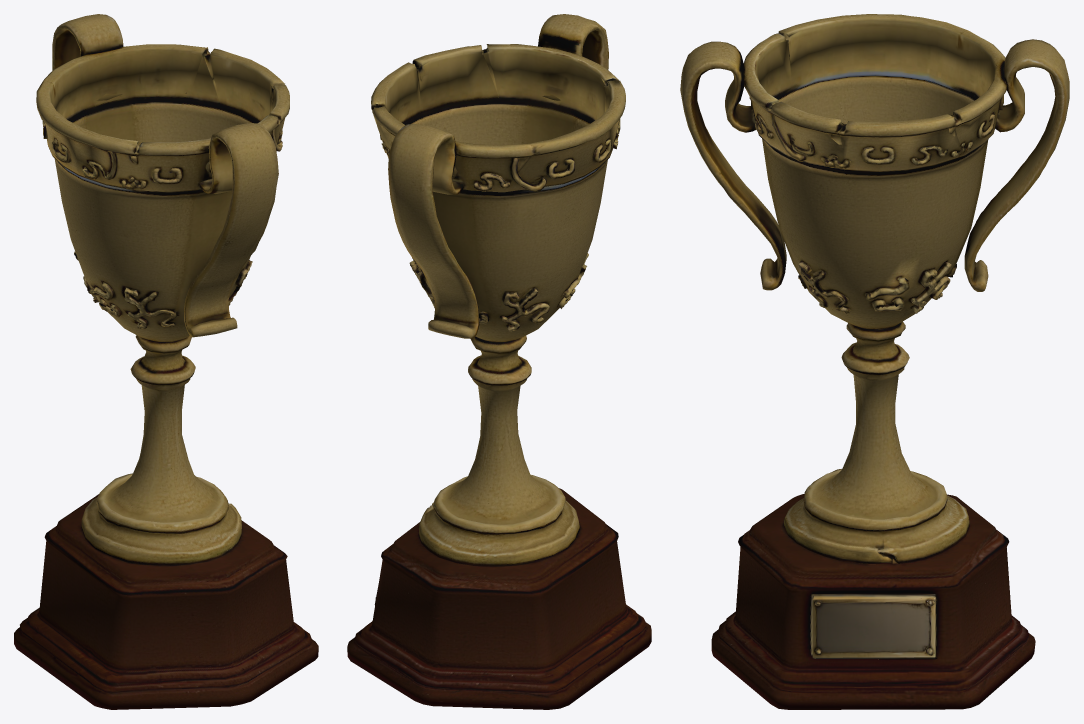
The model's file is theme-trophy-cup-v05.glb.
The picture shows the model from 3 angles, left to right: view 1: azimuth 30°, elevation 25°; view 2: azimuth 150°, elevation 25°; view 3: azimuth 270°, elevation 25°; orthographic projection. The views are drawn at different scales.
Visible parts, largest first — view 1: tripo_node_432cfa29-2ac8-4b99-aad0-6e8ffd4e0939; view 2: tripo_node_432cfa29-2ac8-4b99-aad0-6e8ffd4e0939; view 3: tripo_node_432cfa29-2ac8-4b99-aad0-6e8ffd4e0939.
Part boxes in pixels (<box>): tripo_node_432cfa29-2ac8-4b99-aad0-6e8ffd4e0939: <box>14,14,318,709</box>; tripo_node_432cfa29-2ac8-4b99-aad0-6e8ffd4e0939: <box>347,14,651,709</box>; tripo_node_432cfa29-2ac8-4b99-aad0-6e8ffd4e0939: <box>680,14,1069,709</box>.
Bounding box in the file's own units: 0.1685 × 0.42 × 0.2441.
1 material, 1 textured.
